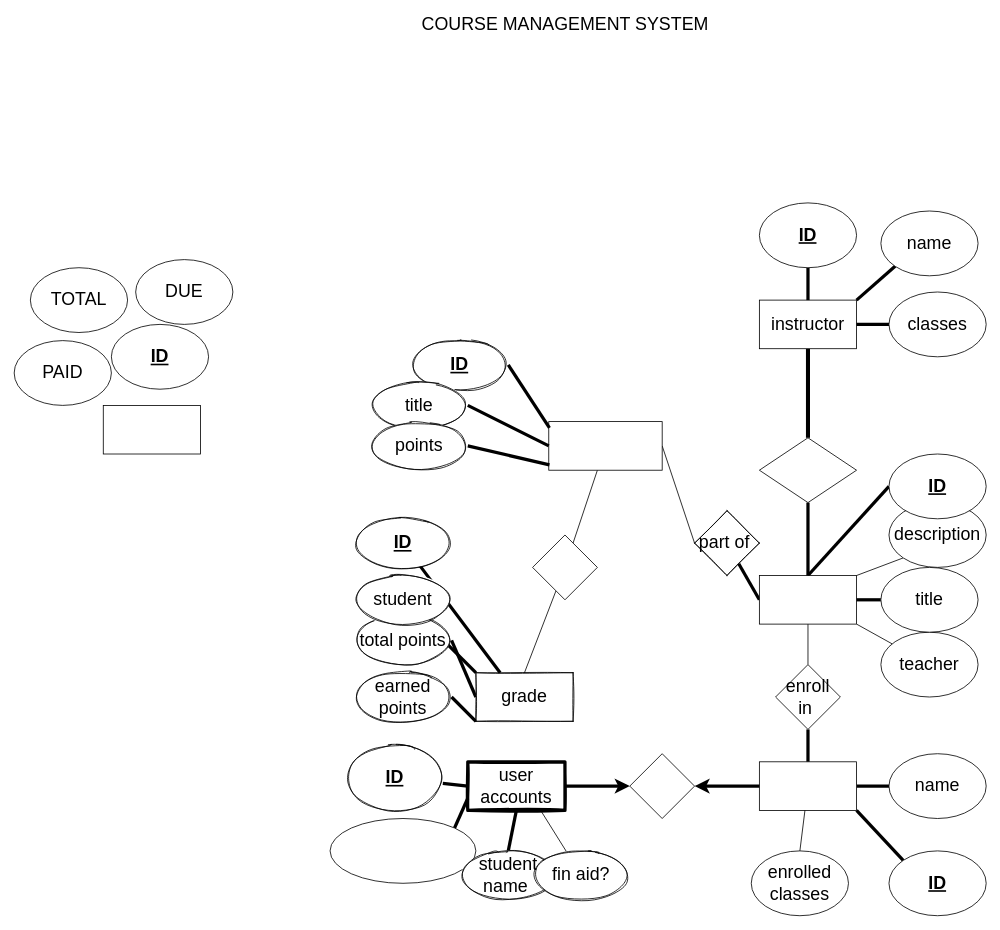
This 1000x930 diagram has some shape labels left out. Each missing label, with the centre of its shape:
"adds to" belongs at point (564, 567).
"course" belongs at point (808, 599).
"exercise" belongs at point (605, 445).
"have" belongs at point (662, 786).
"in good standing?" belongs at point (402, 850).
"students" belongs at point (808, 785).
"teaches" belongs at point (808, 470).
"tuition" belongs at point (151, 429).
